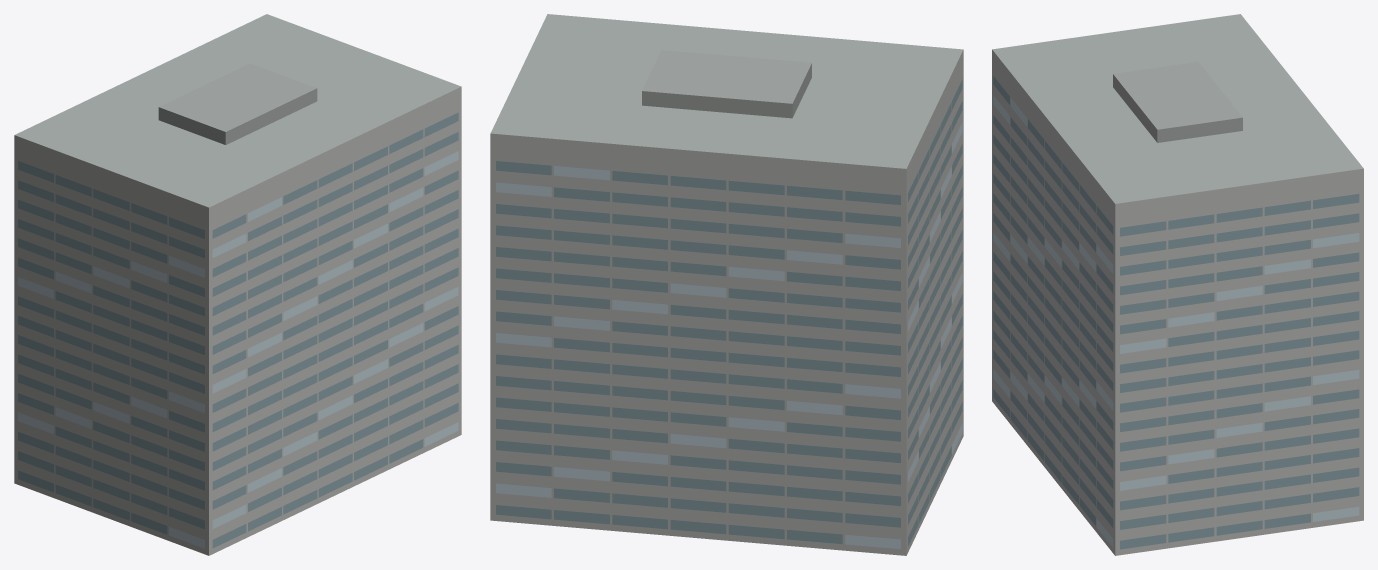
File: named-apt-395c8ead-f794-4360-8ef8-89cf5b8eab79.glb
3 renders of one model, left to right at view 1: azimuth 30°, elevation 25°; view 2: azimuth 150°, elevation 25°; view 3: azimuth 270°, elevation 25°, orthographic. The views are drawn at different scales.
Parts seen in each view (by area): view 1: named-apt-395c8ead-f794-4360-8ef8-89cf5b8eab79; view 2: named-apt-395c8ead-f794-4360-8ef8-89cf5b8eab79; view 3: named-apt-395c8ead-f794-4360-8ef8-89cf5b8eab79.
Boxes of the visible parts, x1,y1,x2,y2 form: named-apt-395c8ead-f794-4360-8ef8-89cf5b8eab79: (14, 14, 461, 555); named-apt-395c8ead-f794-4360-8ef8-89cf5b8eab79: (490, 14, 963, 555); named-apt-395c8ead-f794-4360-8ef8-89cf5b8eab79: (992, 14, 1363, 555).
Bounding box in the file's own units: 73.61 × 66 × 60.88.
